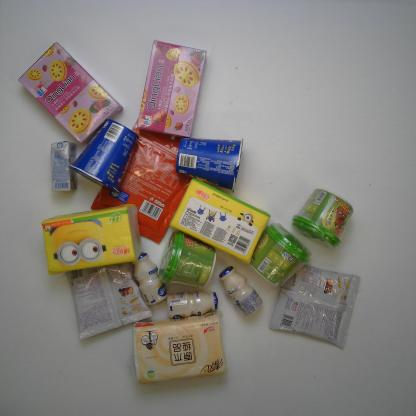Dessert: (16, 41, 125, 148), (135, 38, 209, 141), (68, 117, 141, 195), (175, 134, 244, 195)
Dried Fruit: (89, 115, 198, 246)
Instant Drink: (267, 261, 363, 351), (65, 258, 154, 343), (247, 222, 313, 288), (289, 187, 356, 252), (157, 229, 219, 290)
Milk: (219, 264, 264, 318), (130, 251, 170, 307), (165, 290, 220, 320), (49, 140, 79, 192)
Tissue: (166, 176, 272, 267), (127, 310, 231, 388), (39, 202, 144, 277)
